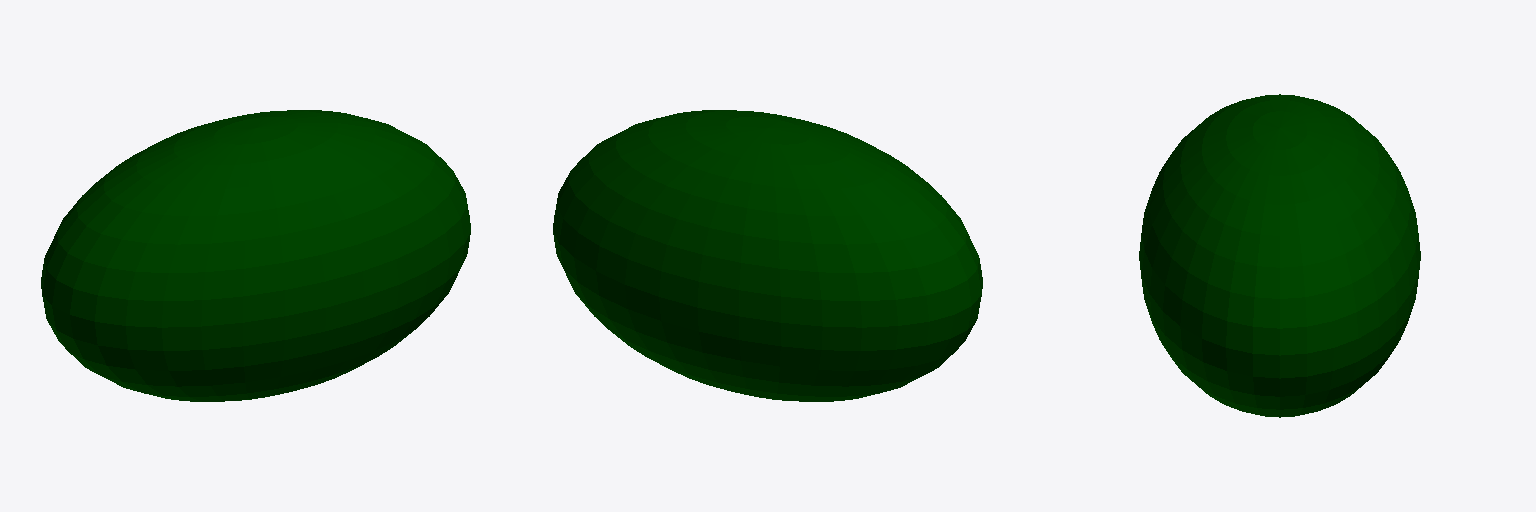
Rendered from melon.obj.
3 views of the same model, side by side, from view 1: azimuth 30°, elevation 25°; view 2: azimuth 150°, elevation 25°; view 3: azimuth 270°, elevation 25° (orthographic).
Visible parts, largest first — view 1: Sphere; view 2: Sphere; view 3: Sphere.
Boxes of the visible parts, x1=… form: Sphere: x1=41, y1=110, x2=470, y2=401; Sphere: x1=553, y1=110, x2=982, y2=401; Sphere: x1=1139, y1=94, x2=1420, y2=417.
Size of the model in its own units: 3.34 by 2 by 2.